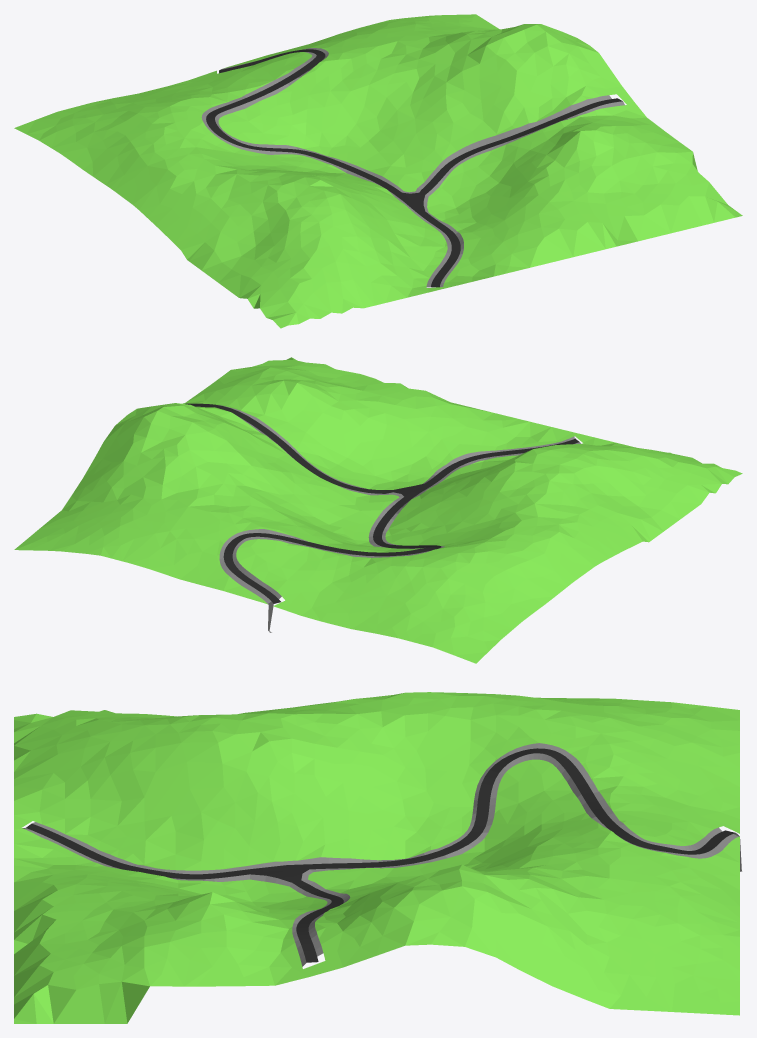
Rendered from terrain0.fbx.
The picture shows the model from 3 angles, top to bottom: view 1: azimuth 30°, elevation 25°; view 2: azimuth 150°, elevation 25°; view 3: azimuth 270°, elevation 25°; orthographic projection. The views are drawn at different scales.
Visible parts, largest first — view 1: road; view 2: road; view 3: road.
Boxes of the visible parts, x1,y1,x2,y2 form: road: (14, 14, 742, 328); road: (14, 357, 742, 663); road: (14, 692, 742, 1023).
Bounding box in the file's own units: 256 × 49.79 × 257.
